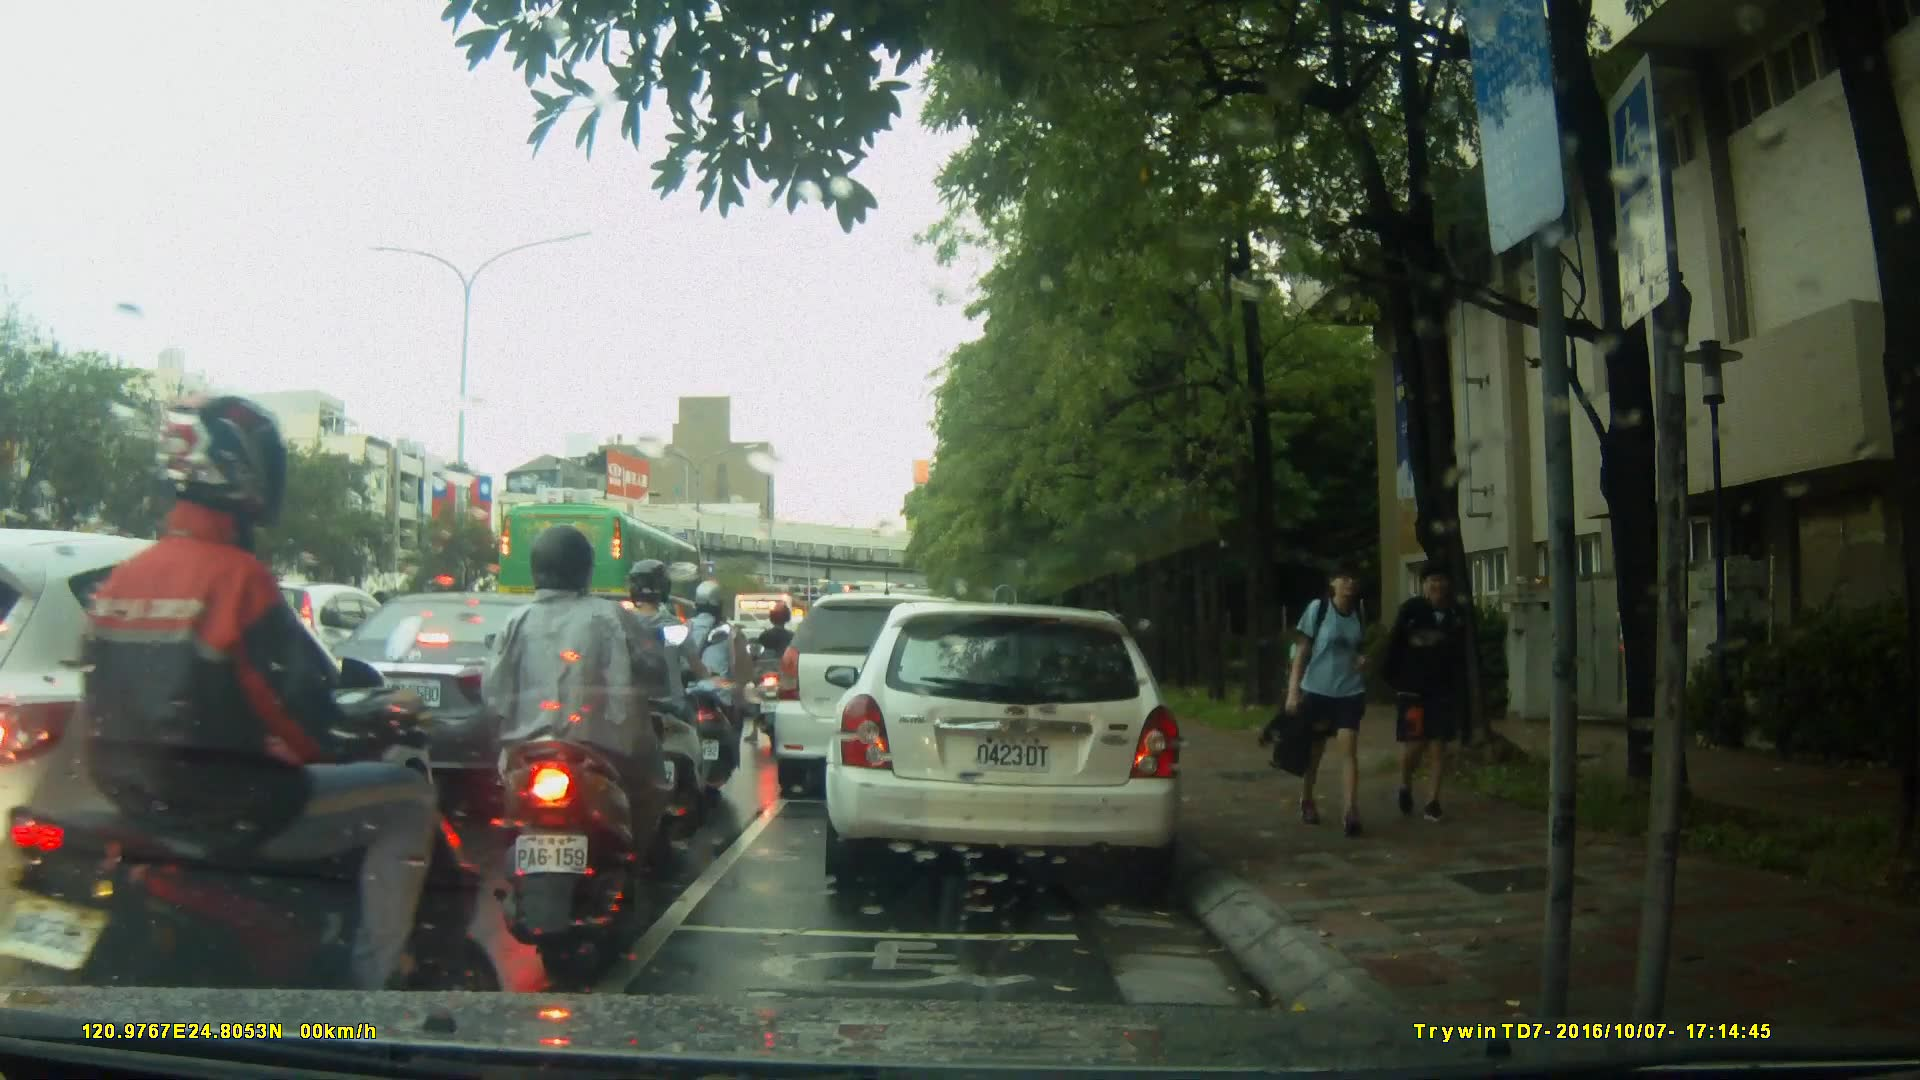pedestrian: (1272, 548, 1389, 838), (1395, 552, 1481, 828)
rider: (21, 395, 477, 1080), (482, 533, 691, 941), (598, 563, 714, 843), (674, 580, 752, 791), (753, 601, 803, 744)
vehicle: (1, 528, 451, 988), (831, 592, 1196, 897), (318, 590, 627, 791), (770, 591, 999, 803), (495, 500, 707, 636)
